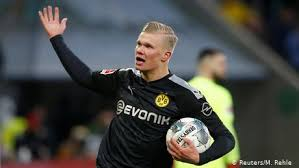football: (165, 116, 210, 151)
